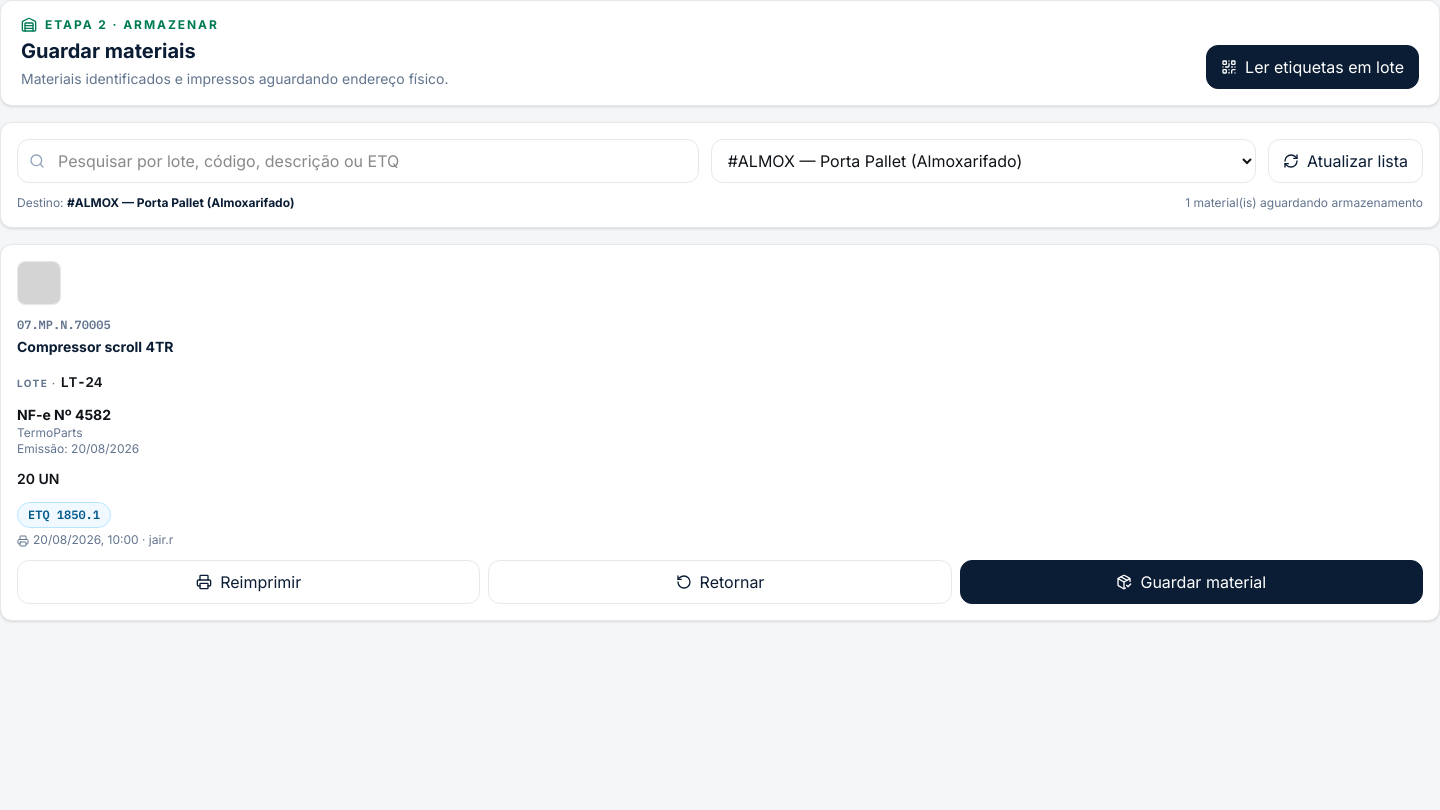
Scenario: StoreMaterialsScreen › preserves return-all semantics for the same product and lot
The width and height of the screenshot is (1440, 810).
Expected: the text "Compressor scroll 4TR" is shown, [17,338,174,355]
Step 1. Click the button "Retornar" → (720, 582), box [488,560,952,604]
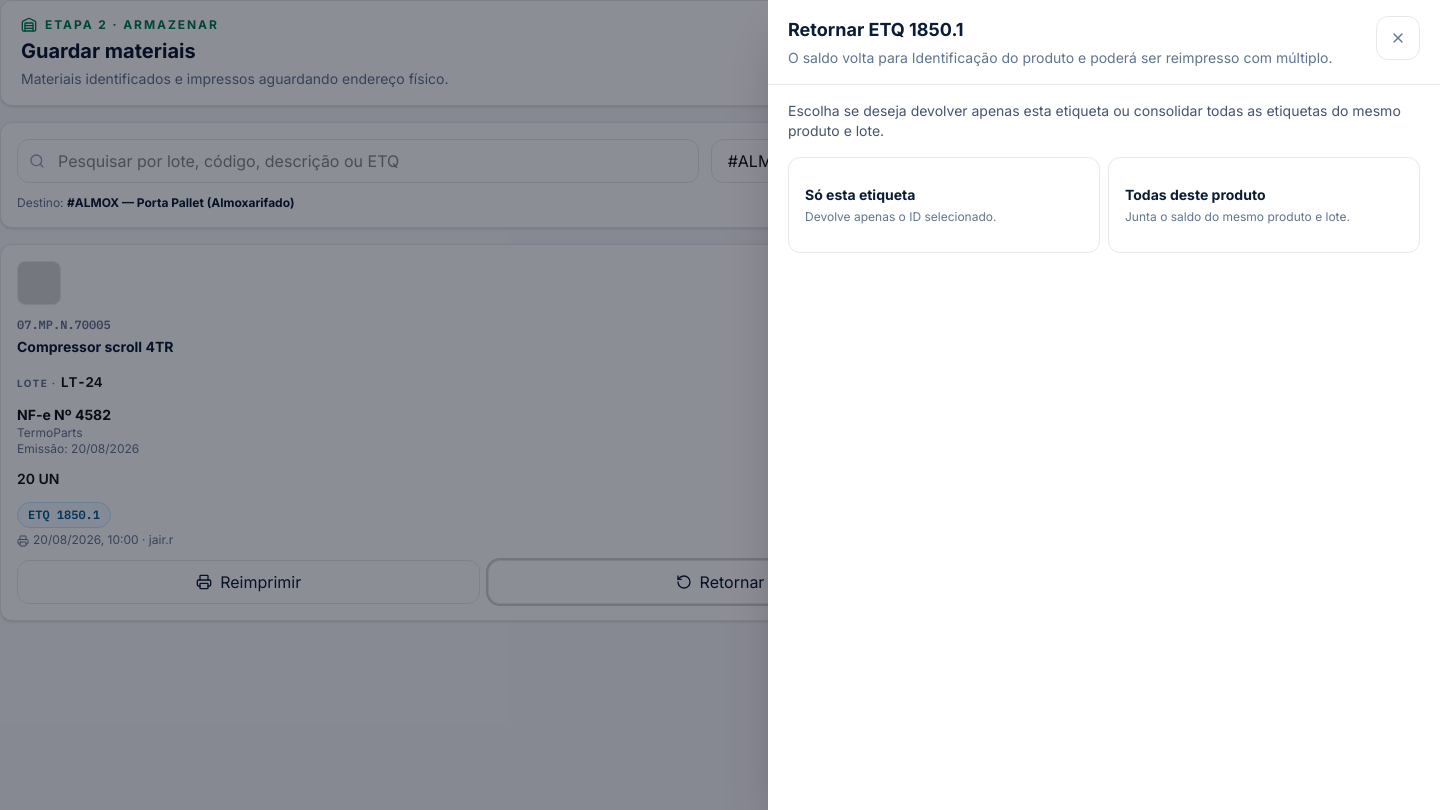
Step 2. Click the button "Todas deste produto Junta o saldo do mesmo produto e lote." → (1264, 205), box [1108,157,1420,253]
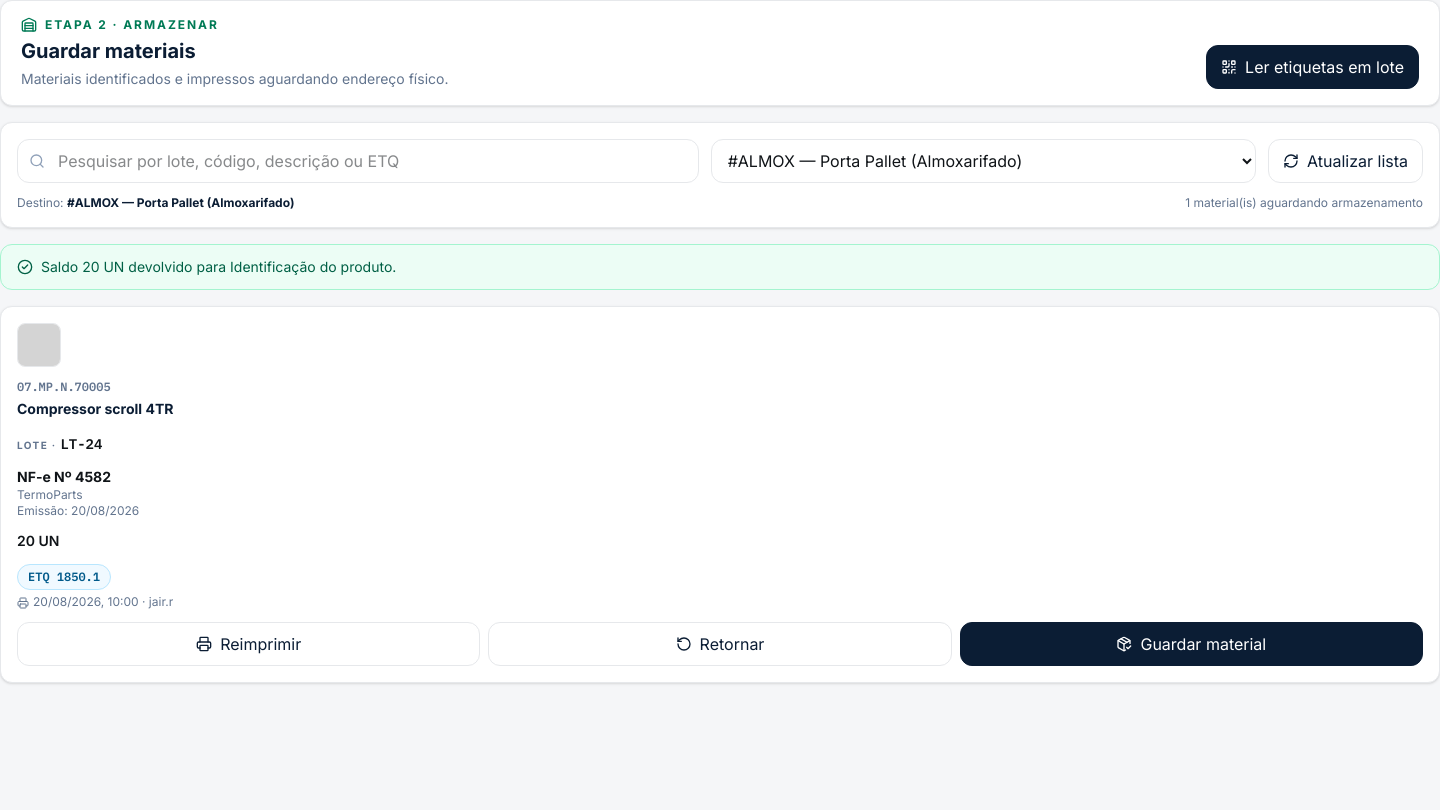
Result: the text "Saldo 20 UN devolvido para Identificação do produto." is shown at [0,244,1439,290]
